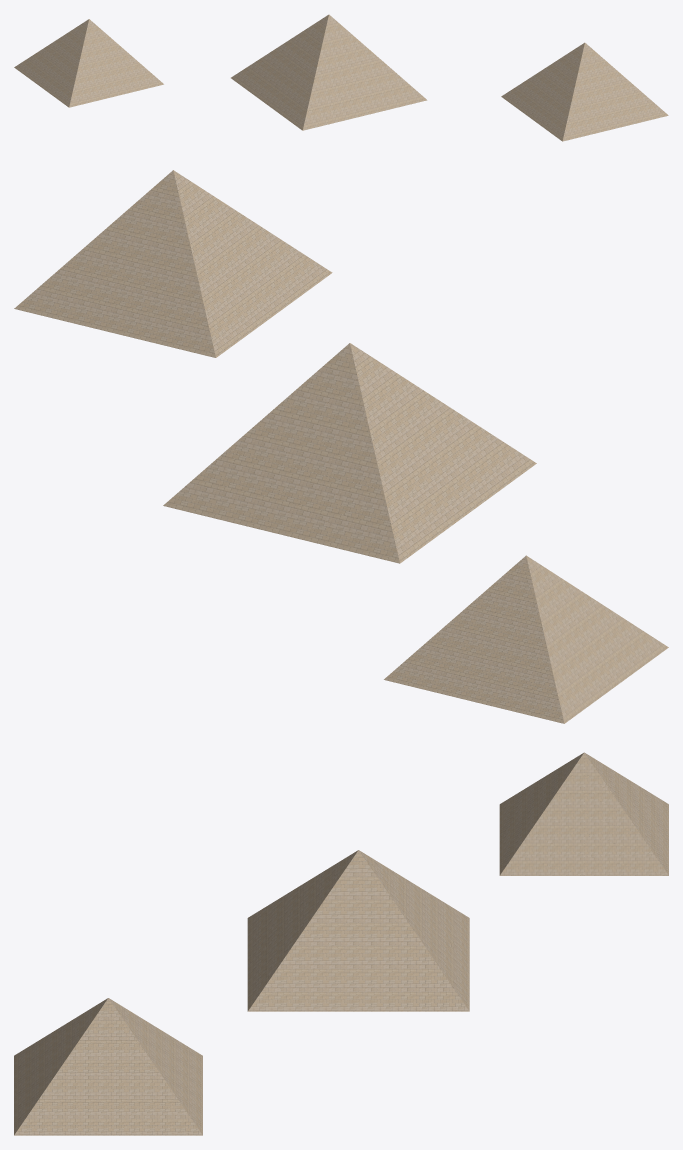
File: Pyramids.FBX
3 views of the same model, one above another, from view 1: azimuth 30°, elevation 25°; view 2: azimuth 150°, elevation 25°; view 3: azimuth 270°, elevation 25° (orthographic). The views are drawn at different scales.
Parts seen in each view (by area): view 1: Pyramid002, Pyramid003, Pyramid001; view 2: Pyramid002, Pyramid003, Pyramid001; view 3: Pyramid002, Pyramid003, Pyramid001.
Part boxes in pixels (x1,y1,x2,y2): Pyramid002: (231,14,427,130); Pyramid003: (501,42,668,141); Pyramid001: (14,19,163,107); Pyramid002: (163,343,536,563); Pyramid003: (14,170,332,357); Pyramid001: (384,555,668,723); Pyramid002: (247,850,469,1011); Pyramid003: (14,998,202,1135); Pyramid001: (499,752,668,875).
Bounding box in the file's own units: 1621 × 262 × 1354.
Materials: 1 (1 with a texture image).
